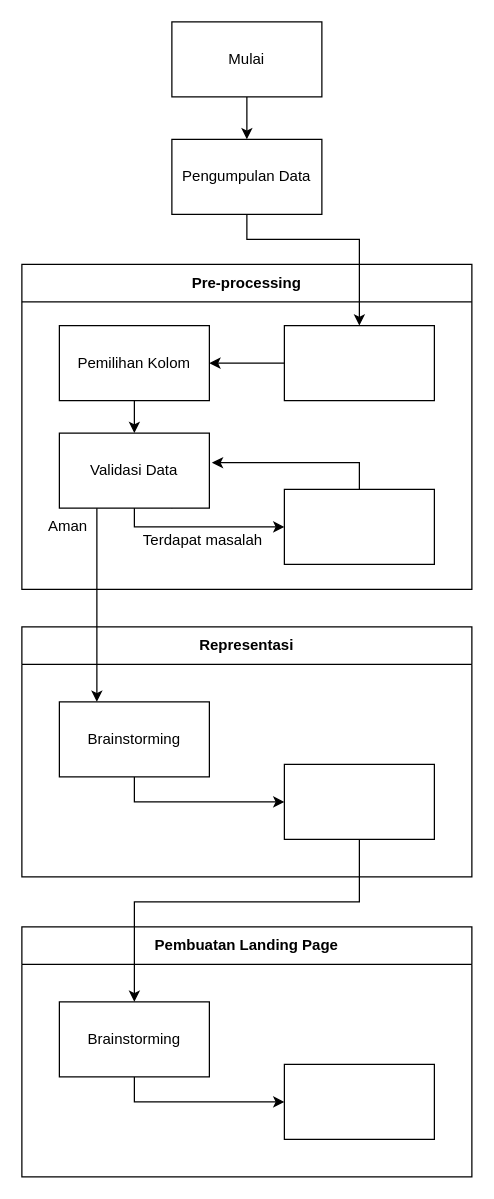
This 494x1199 diagram has some shape labels left out. Each missing label, with the box of its shape:
Penggabungan Dataset: (283, 324, 434, 401)
Problem Solving: (283, 488, 434, 564)
Realisasi: (283, 1063, 434, 1139)
Visualisasi: (283, 763, 434, 839)
